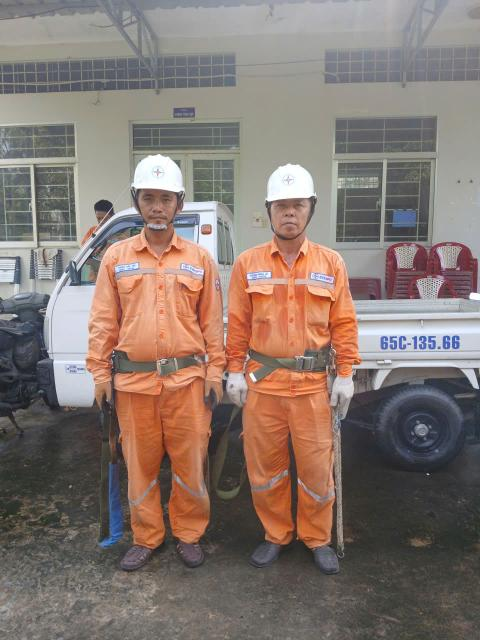gloves: (323, 371, 357, 422), (224, 367, 259, 409), (197, 370, 229, 412), (93, 378, 119, 412)
harness: (107, 340, 213, 378), (241, 337, 331, 379)
helmet: (131, 149, 190, 204), (268, 145, 317, 210)
shoes: (111, 530, 165, 572), (168, 523, 213, 567), (308, 534, 349, 577), (244, 526, 287, 565)
